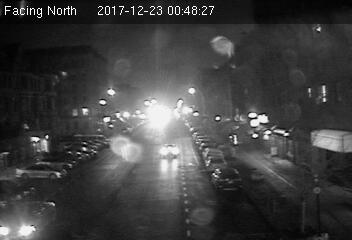car: (212, 167, 241, 190), (158, 143, 180, 158)
